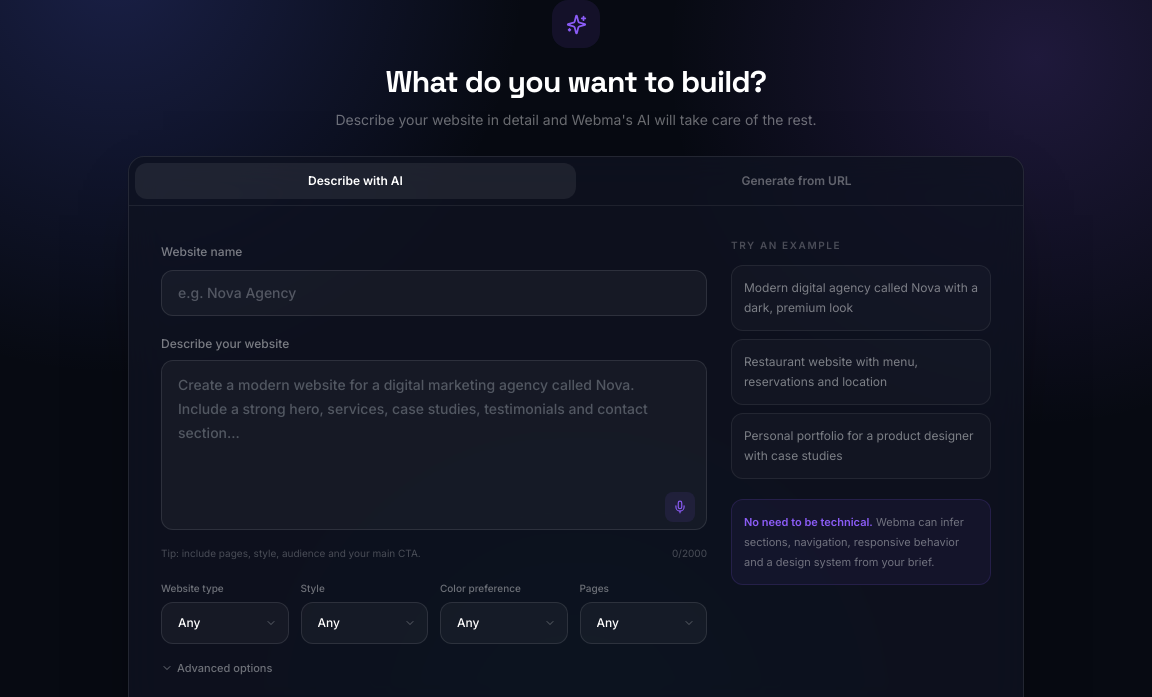
Test: DescribeStep — structured form › hides the advanced options fields until the toggle is clicked
expect the field with placeholder "small business owners" is not shown: met
Click the button "Advanced options" at (217, 668), box [161,660,272,676]
(page scrolled)
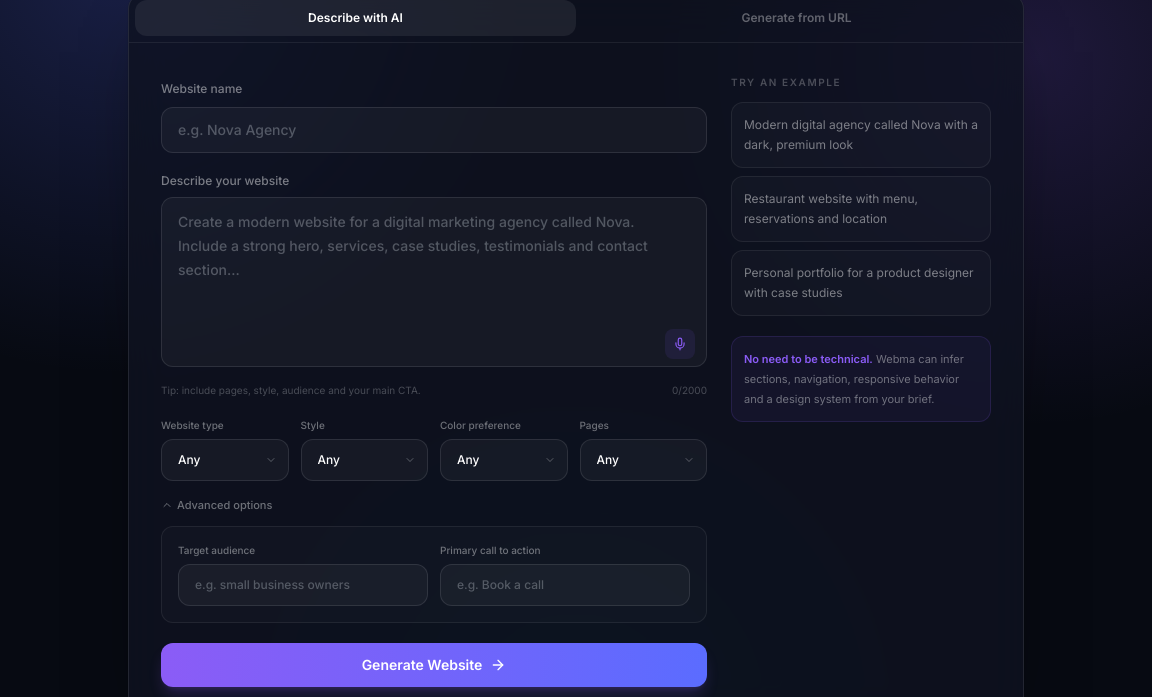
expect the field with placeholder "e.g. small business owners" is shown: met, box [178,564,428,606]
